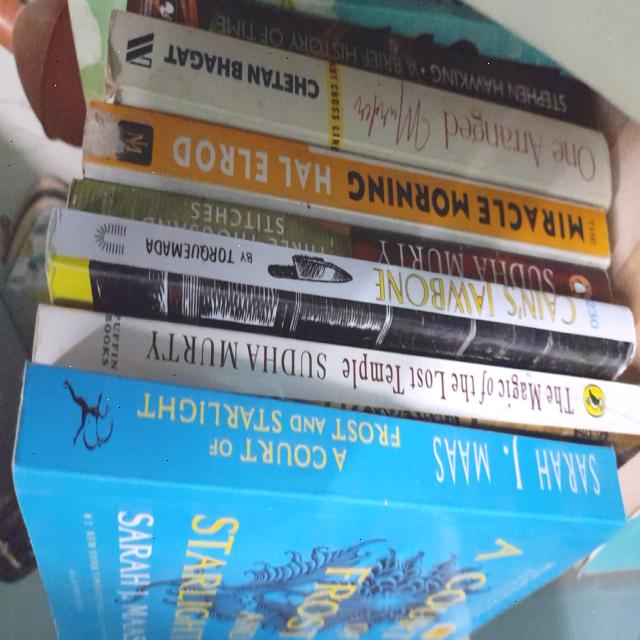book: (9, 362, 627, 522), (104, 8, 611, 203), (84, 95, 611, 261), (47, 204, 633, 342), (30, 307, 640, 438), (67, 173, 612, 300)
